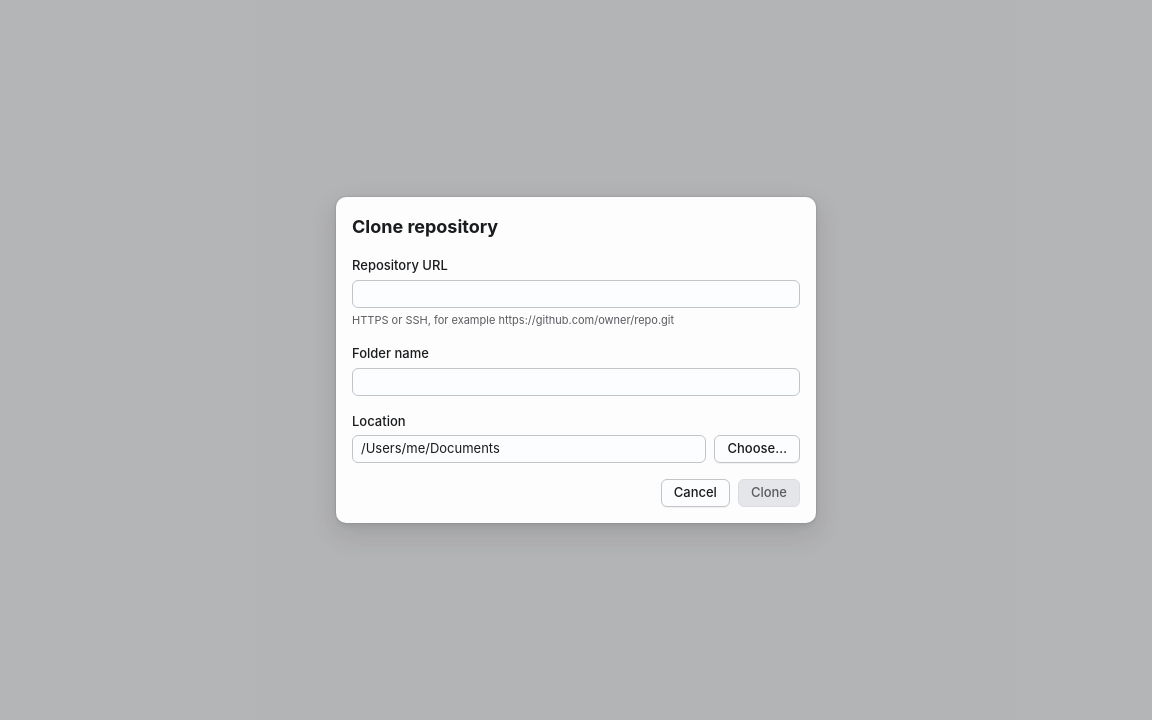
Test case: CloneRepositoryDialog › derives the folder name from the URL and shows progress
The image size is (1152, 720).
Type "https://github.com/owner/garam.git" into the field labelled "Repository URL".
click(576, 294); type("https://github.com/owner/garam.git")  # box x1=352 y1=280 x2=800 y2=308
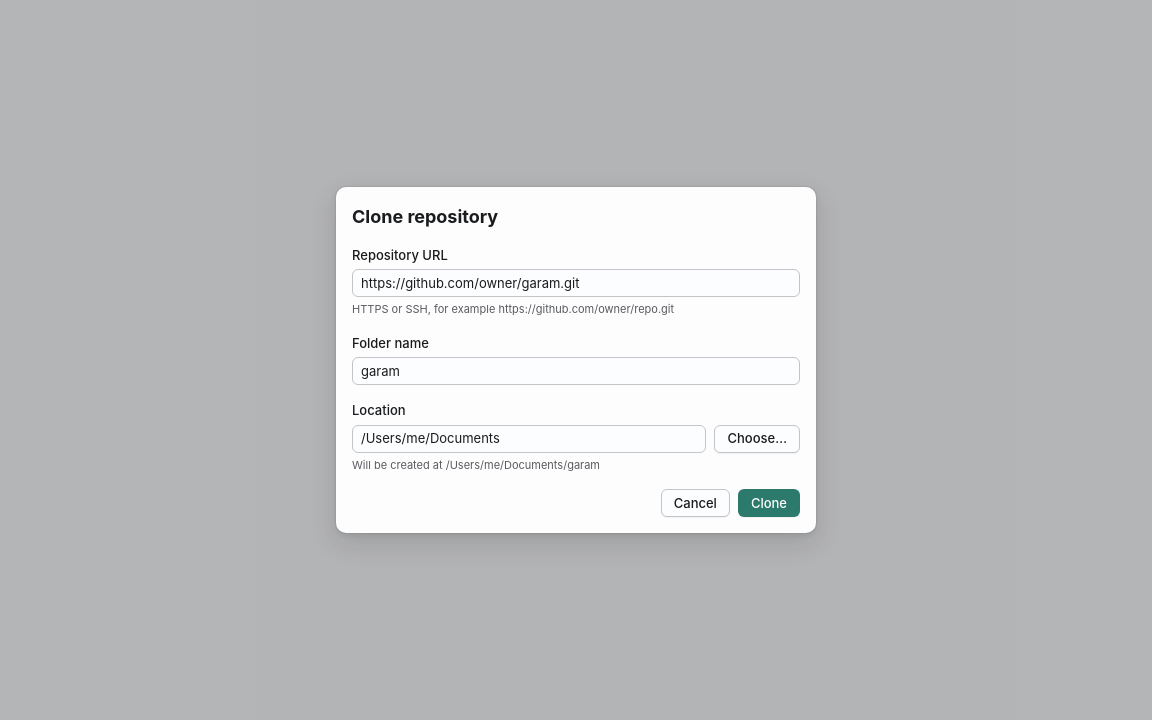
expect the field labelled "Folder name" holds "garam": met, box x1=352 y1=357 x2=800 y2=385
expect the text "Will be created at /Users/me/Documents/garam" is shown: met, box x1=352 y1=458 x2=600 y2=472
Click the button "Clone".
click(769, 503)  # box x1=738 y1=489 x2=800 y2=517
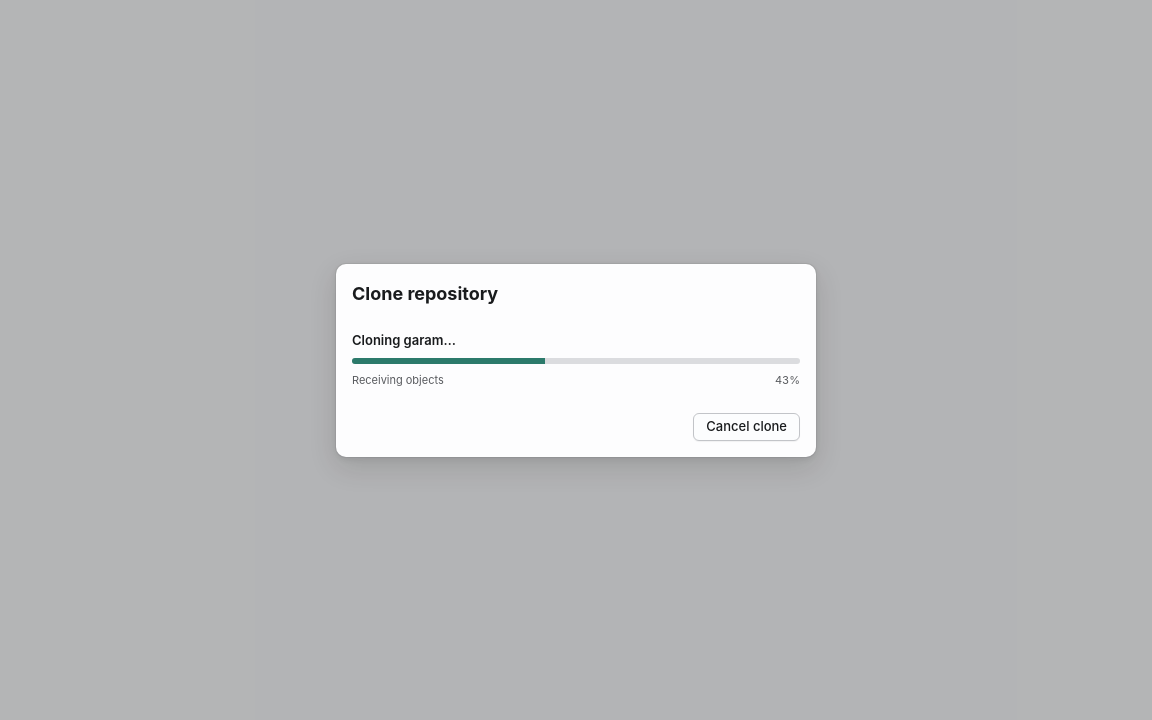
expect the text "Receiving objects" is shown: met, box x1=352 y1=372 x2=444 y2=388
